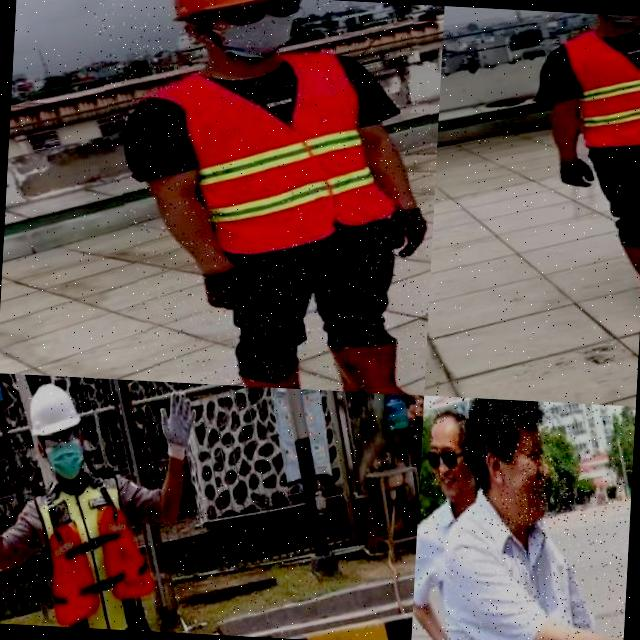boots: (321, 320, 428, 396), (240, 359, 340, 391), (615, 229, 640, 321)
helmet: (18, 374, 87, 444), (155, 0, 300, 33)
vest: (157, 32, 404, 272), (24, 465, 172, 632), (555, 12, 640, 157)
